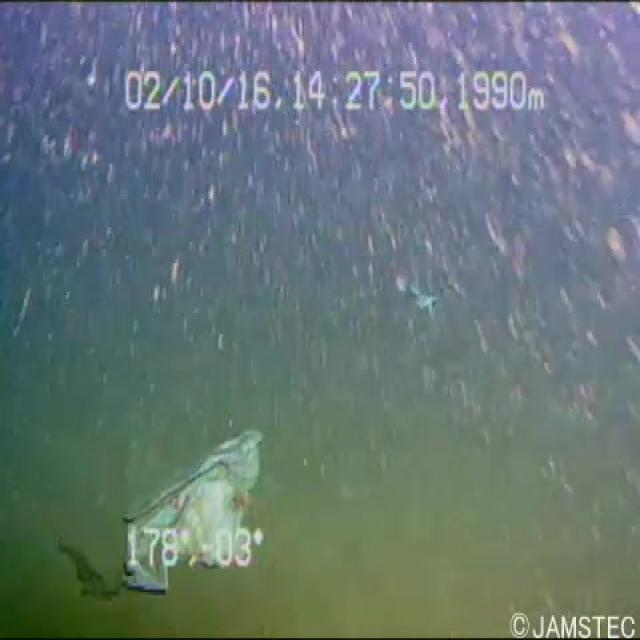plastic: (110, 414, 274, 592), (367, 261, 453, 322)
